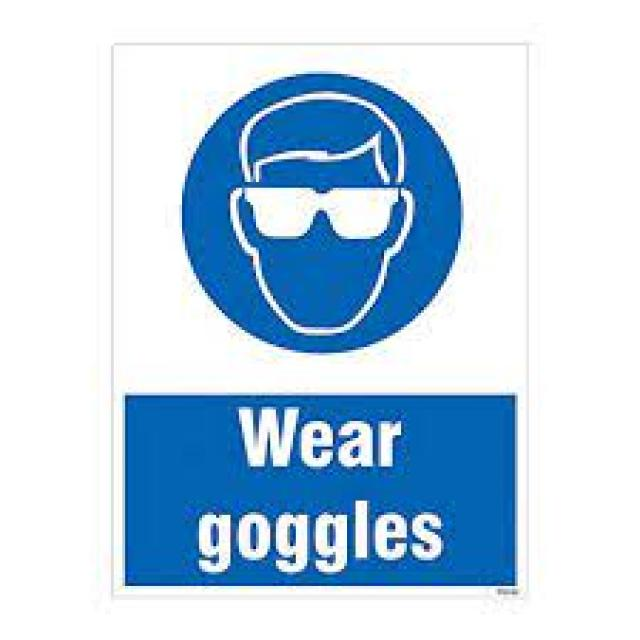wear-glass-hazard: (155, 65, 500, 360)
